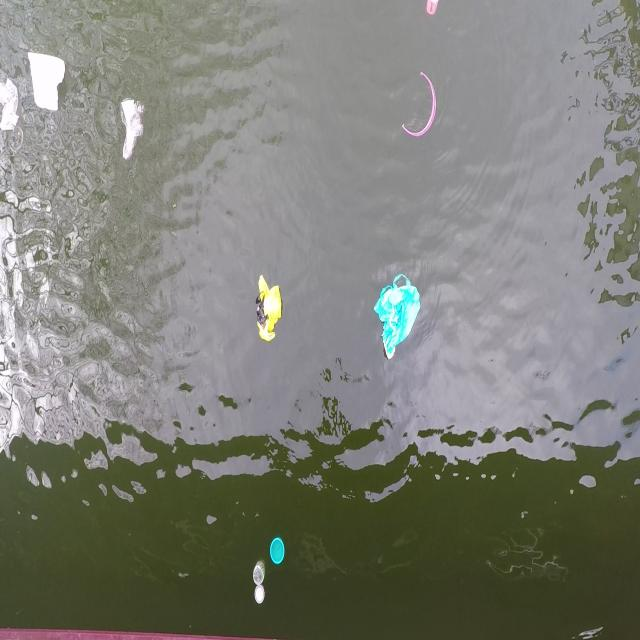Autre plastique: (25, 44, 71, 119)
Sac plastique: (372, 266, 428, 368), (251, 270, 287, 352), (117, 92, 149, 169), (0, 75, 22, 140)
